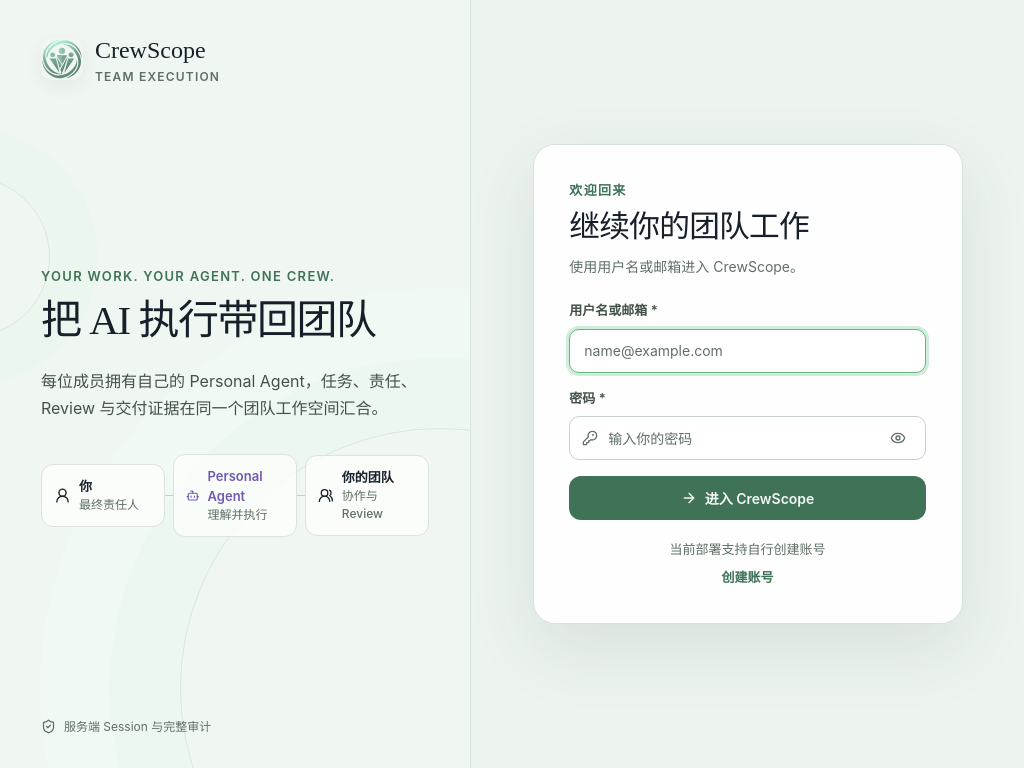
Test: LoginPage › separates capacity limits without disclosing account state
This screenshot has width=1024, height=768.
Type "alice" into the field named "identifier" at (693, 351), box [582,339,804,362]
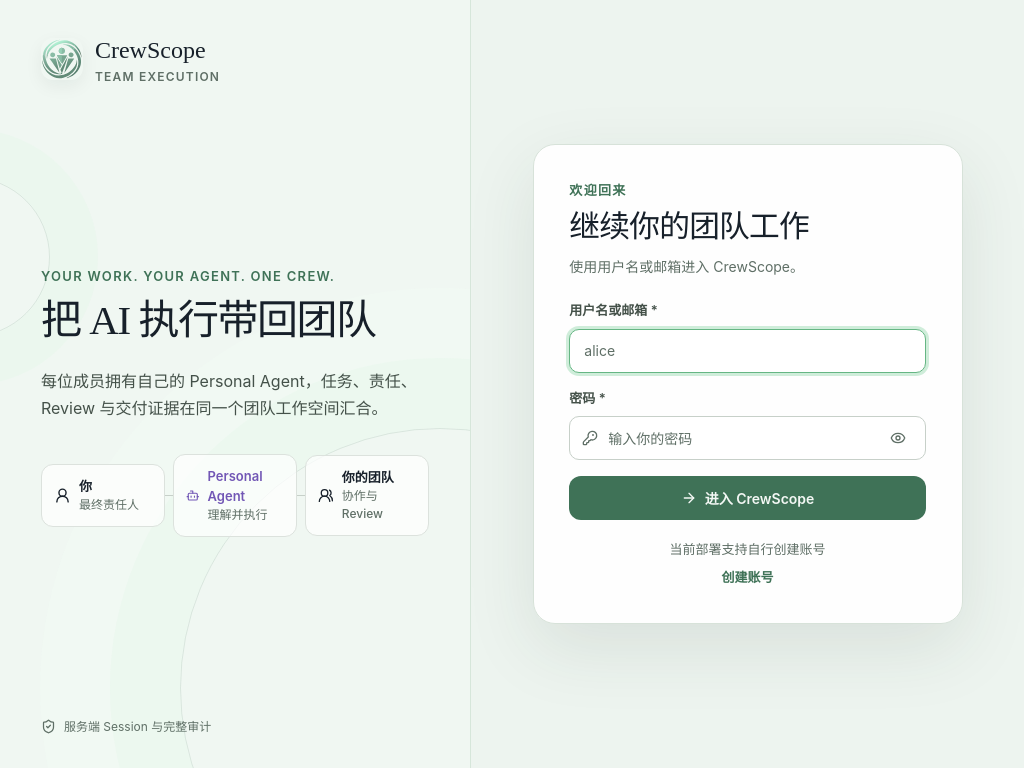
Type "password" into the password field named "password" at (740, 438), box [606,427,875,450]
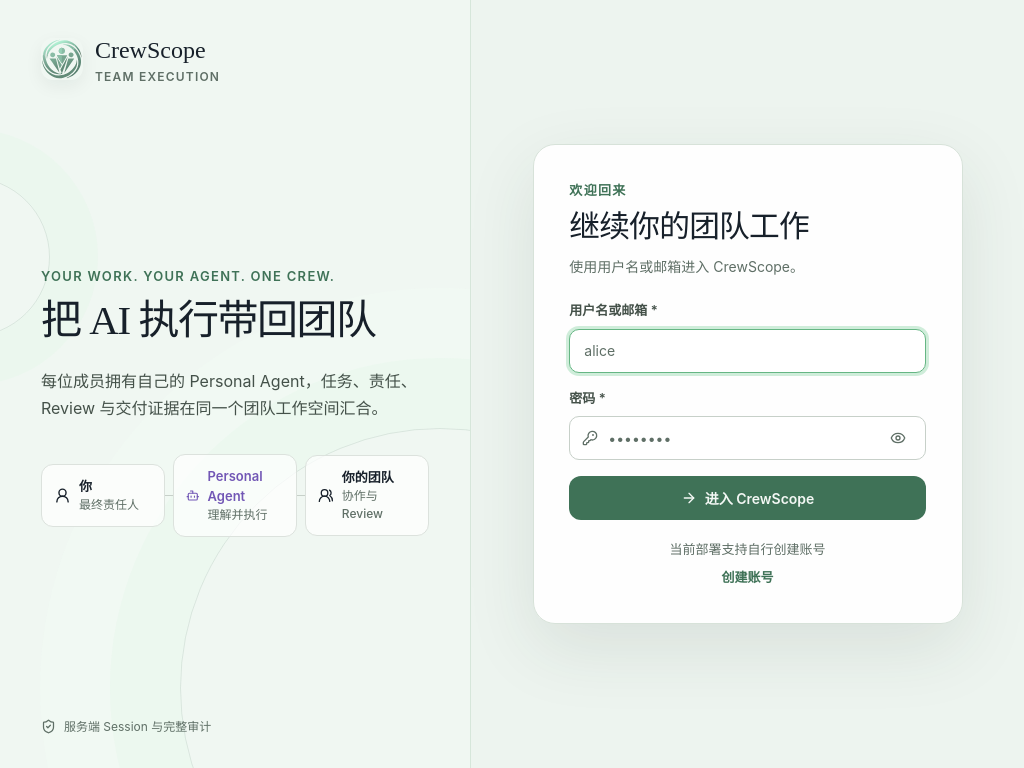
Submit the form, box [569,301,926,520]
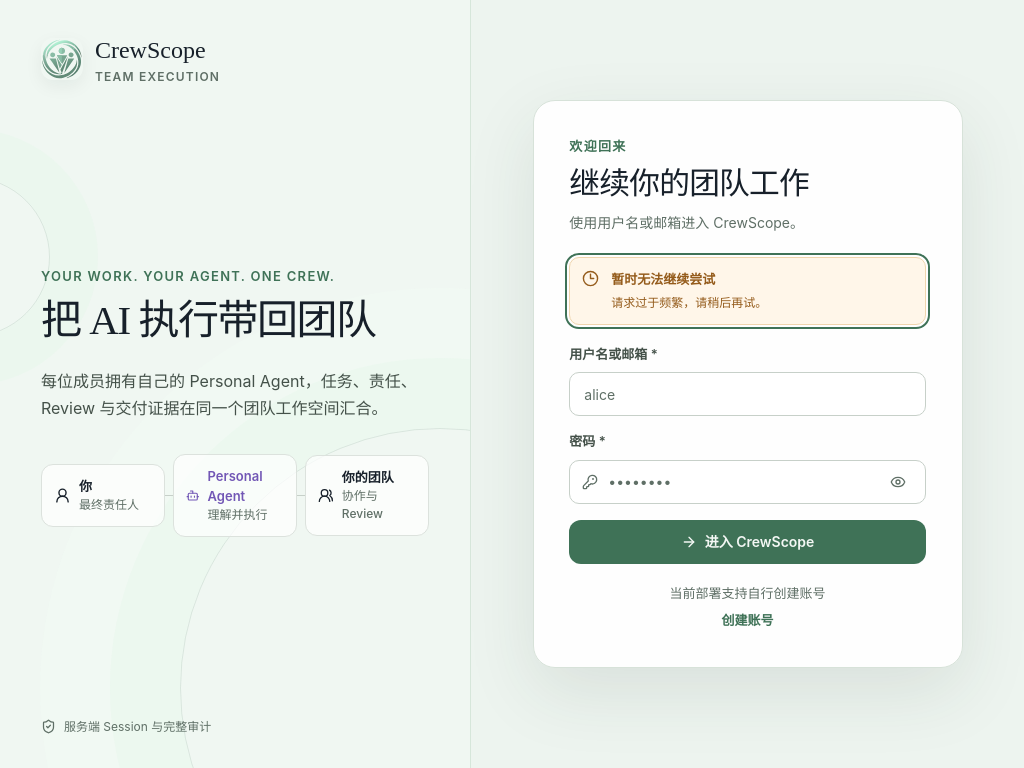
Now the message "暂时无法继续尝试 请求过于频繁，请稍后再试。" is shown, box [569,258,926,325]
